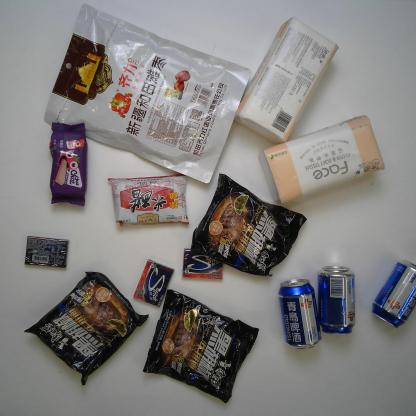Alcohol: (369, 256, 416, 327), (275, 275, 319, 350), (316, 262, 358, 337)
Dessert: (47, 118, 91, 208)
Dried Food: (43, 2, 252, 186)
Gum: (132, 256, 176, 309), (22, 234, 70, 269), (180, 247, 227, 280)
Instant Noodles: (23, 270, 149, 386), (143, 288, 262, 402), (189, 171, 307, 277)
Seasoner: (104, 170, 192, 229)
Tissue: (230, 16, 340, 145), (257, 114, 387, 207)
